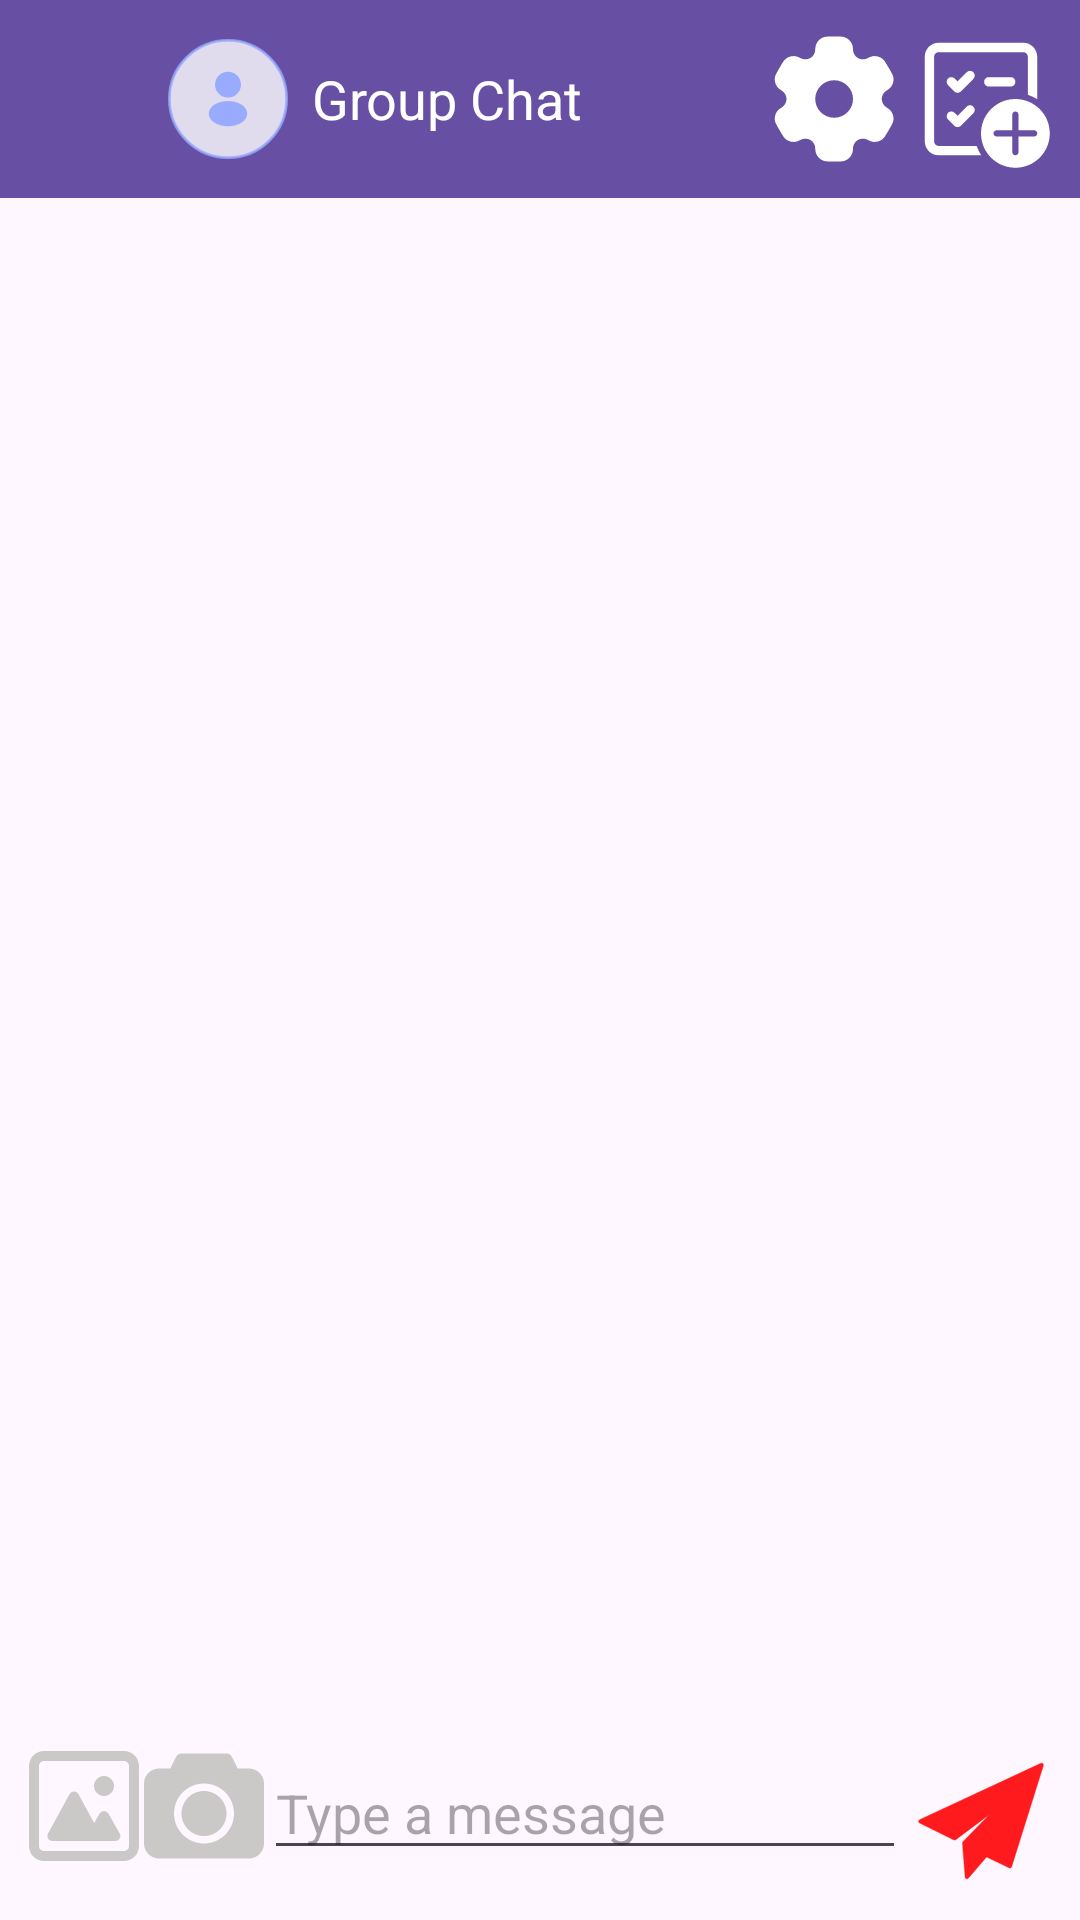

Where icons sit on this 1080x1920 app screen, as (x1, y1, x2, y2):
Create Task: (924, 42, 1050, 168)
Select Photo: (29, 1751, 139, 1861)
Send: (918, 1762, 1044, 1880)
Settings: (774, 36, 894, 162)
Take Photo: (144, 1753, 264, 1859)
